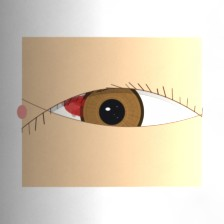hemorrhage_spot: (57, 83, 114, 129)
